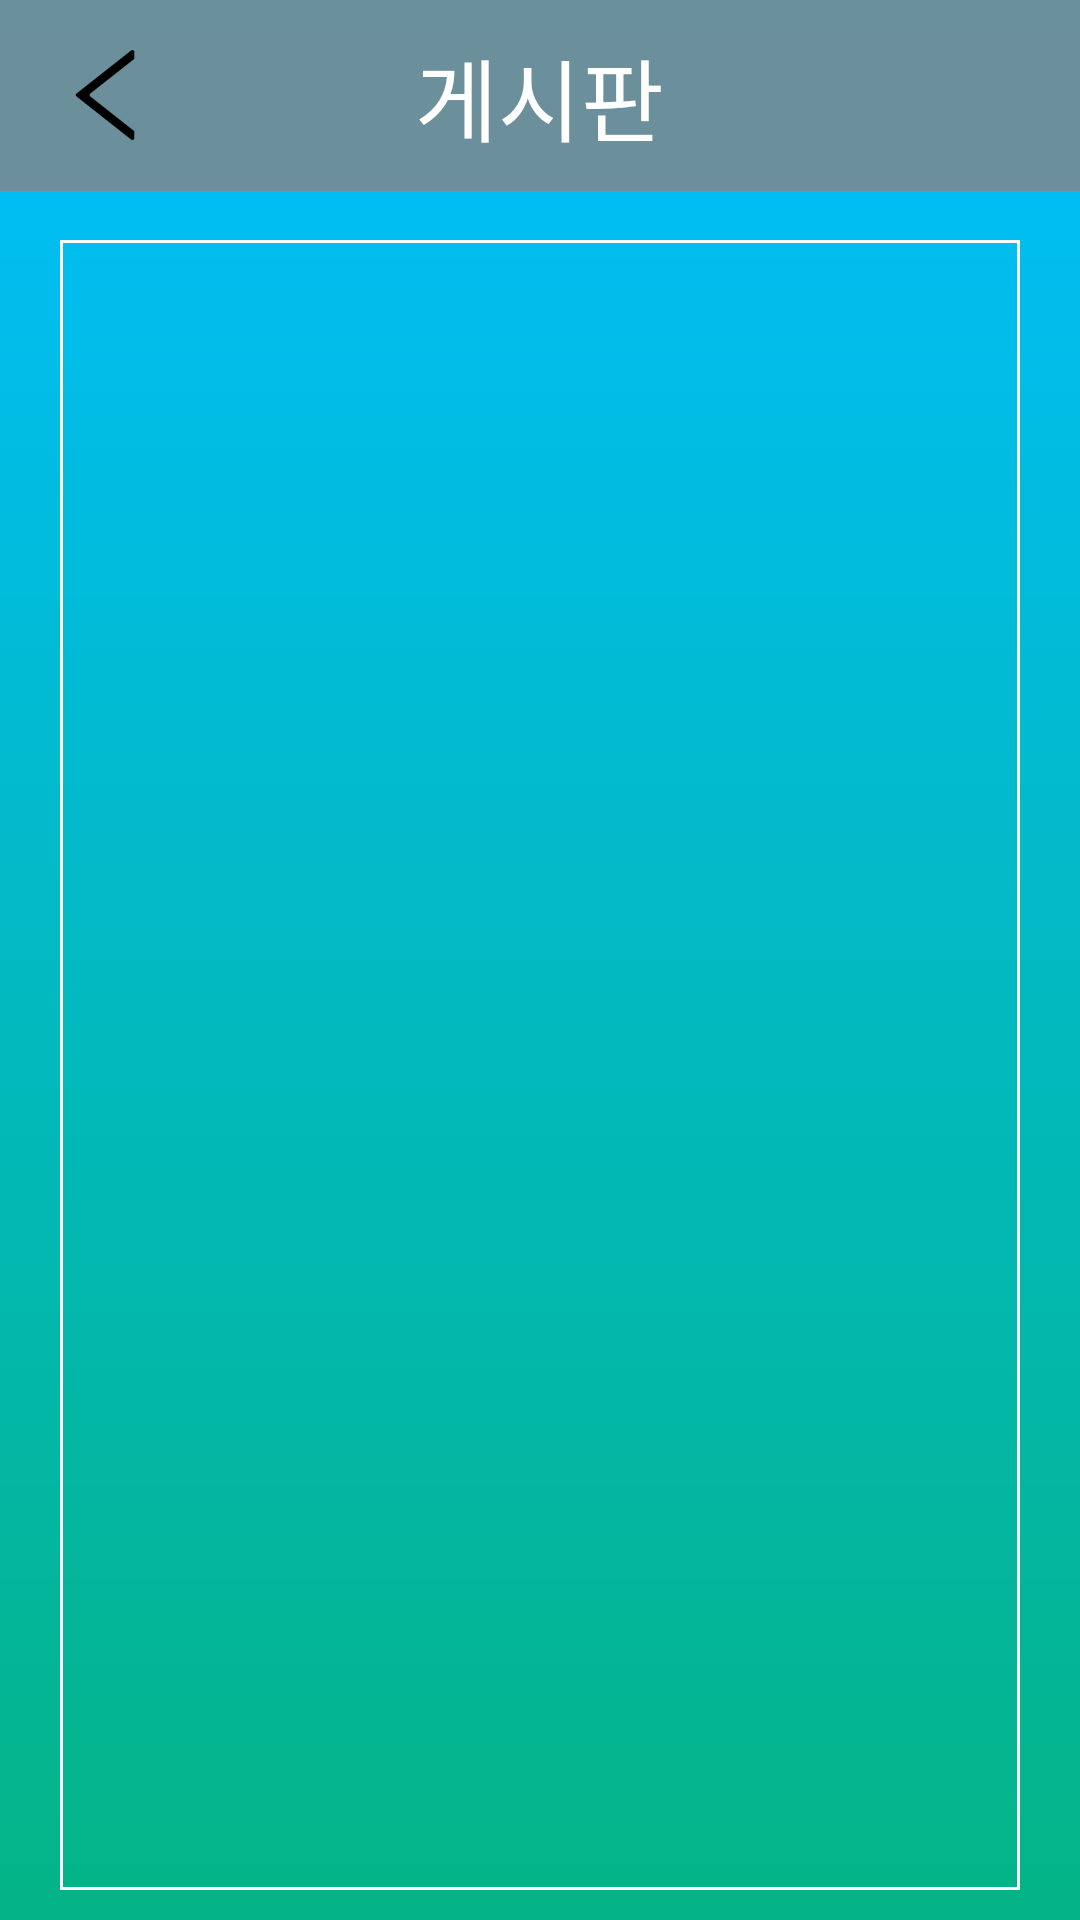

Icon click points for this 1080px x 1920px phone screenshot, format [x,y]:
back: [105,95]
